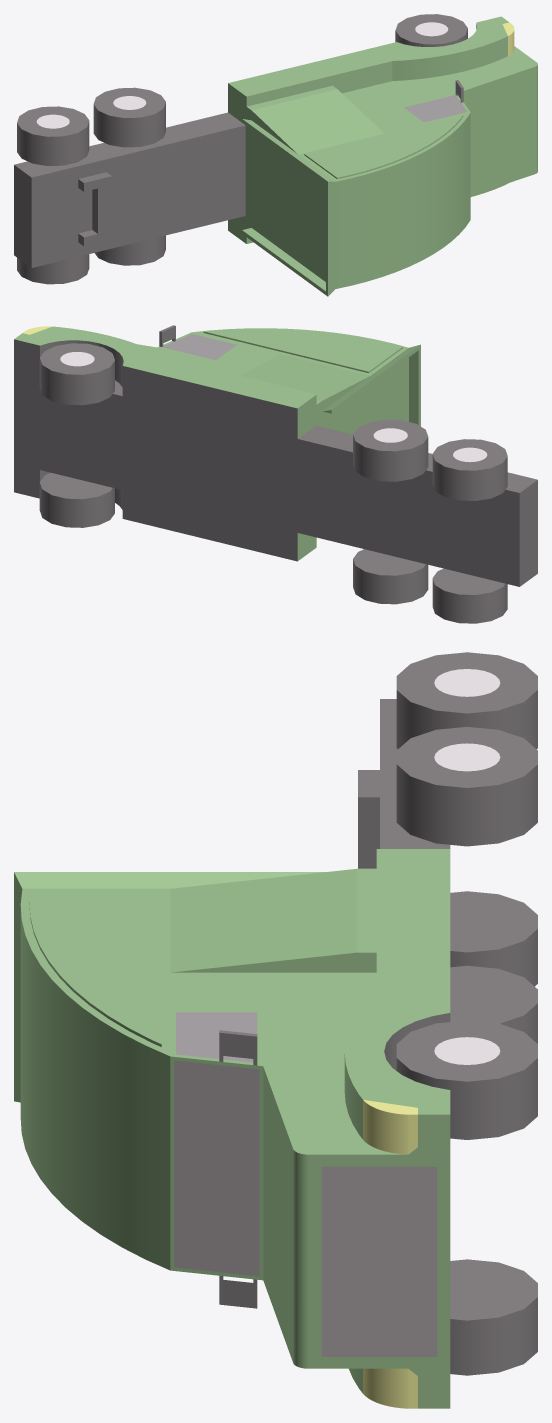
Rendered from truck_1.dae.
3 views of the same model, one above another, from view 1: azimuth 30°, elevation 25°; view 2: azimuth 150°, elevation 25°; view 3: azimuth 270°, elevation 25° (orthographic). The views are drawn at different scales.
Parts seen in each view (by area): view 1: instance_0_014, instance_0_004, instance_0, instance_0_003, instance_0_011; view 2: instance_0_004, instance_0, instance_0_014, instance_0_003, instance_0_011; view 3: instance_0_014, instance_0, instance_0_009, instance_0_011, instance_0_004, instance_0_029, instance_0_003, instance_0_016.
Part boxes in pixels (x1,y1,x2,y2): instance_0_014: (228,16,537,296); instance_0_004: (14,24,476,267); instance_0: (17,14,467,284); instance_0_003: (36,22,448,128); instance_0_011: (404,95,466,122); instance_0_004: (14,339,537,586); instance_0: (39,343,507,623); instance_0_014: (14,326,420,560); instance_0_003: (60,352,487,462); instance_0_011: (162,334,236,360); instance_0_014: (14,849,450,1408); instance_0: (396,652,537,1375); instance_0_009: (321,1166,437,1356); instance_0_011: (174,1012,259,1276); instance_0_004: (358,699,450,1070); instance_0_029: (363,1100,417,1408); instance_0_003: (434,669,500,1064); instance_0_016: (219,1030,257,1308).
Size of the model in its own units: 2727 by 789 by 1274.
